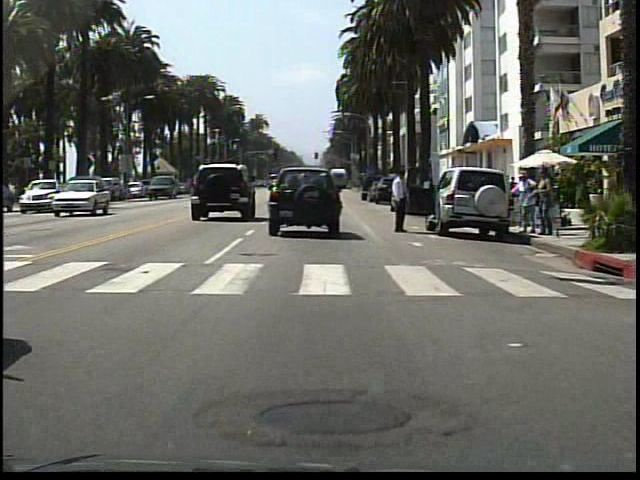person: (388, 161, 418, 236), (511, 165, 536, 237), (535, 164, 556, 240)
